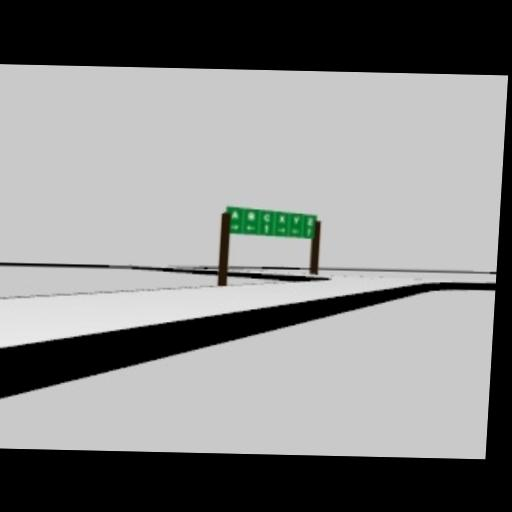A: (231, 209, 240, 220)
B: (247, 211, 256, 222)
C: (262, 212, 271, 222)
Left: (246, 225, 256, 233), (290, 228, 299, 235)
Right: (230, 223, 240, 232), (277, 226, 286, 235)
Straight: (261, 224, 270, 235), (306, 226, 313, 236)
X: (278, 213, 287, 224)
Y: (292, 215, 300, 226)
Z: (307, 216, 314, 226)
